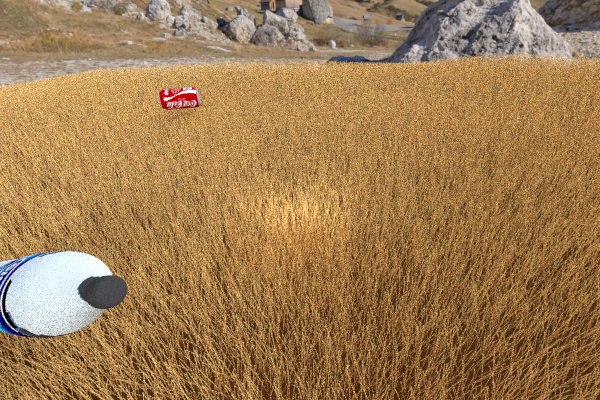Plastic Bottle: (0, 251, 127, 337), (157, 86, 200, 110)
